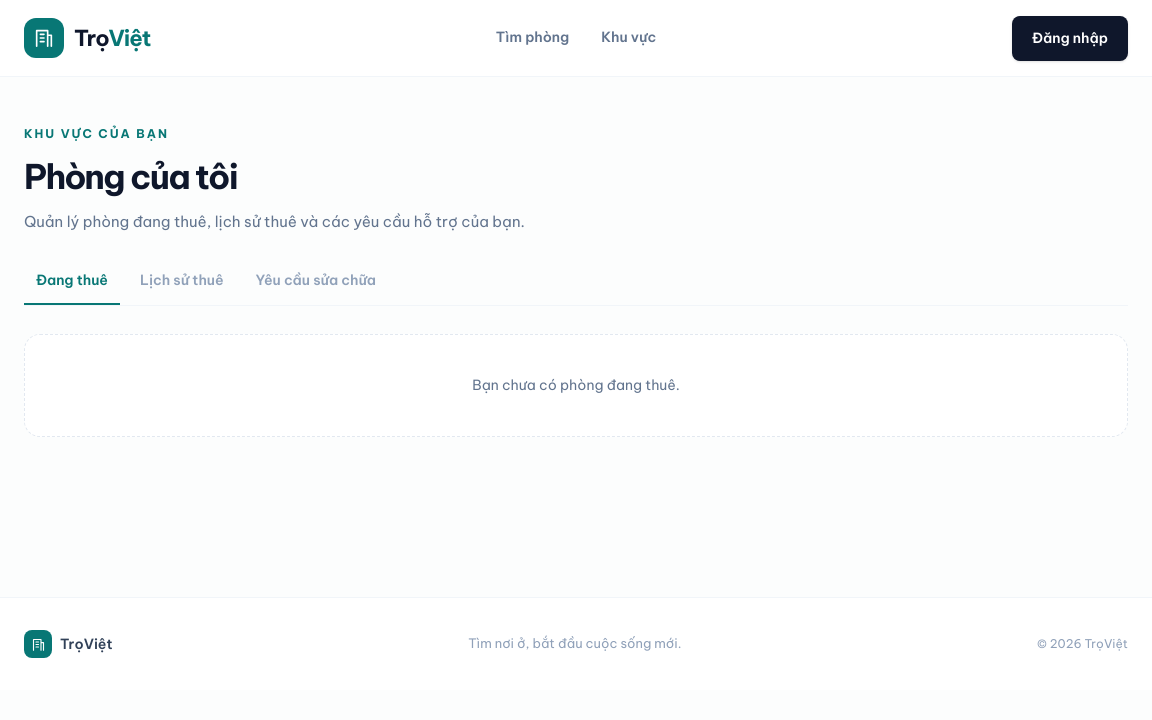
Customer room and notification pages › shows real empty/error states and does not create optimistic requests on failure
Check: the text "Bạn chưa có phòng đang thuê." is shown, box top-left (24, 334), bottom-right (1128, 437)
Click the button "Yêu cầu sửa chữa" at (316, 288), box top-left (244, 270), bottom-right (388, 305)
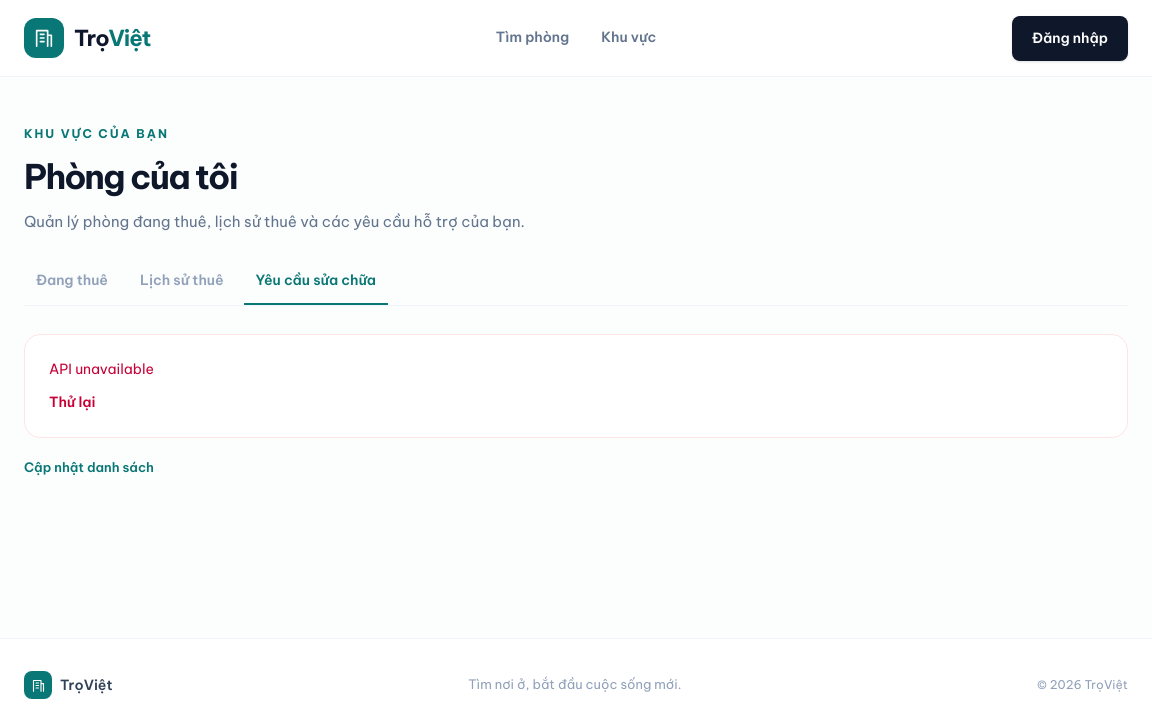
Check: the text "API unavailable" is shown, box top-left (49, 360), bottom-right (154, 378)
